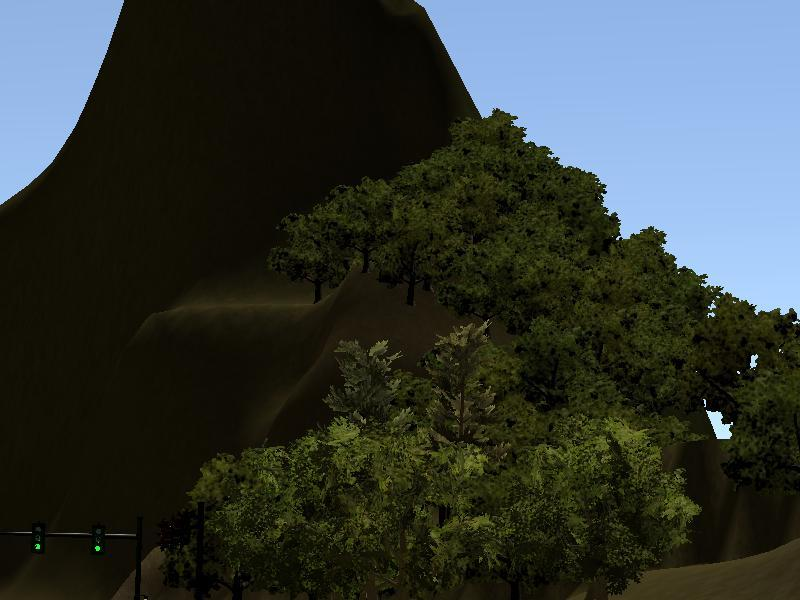Green: (31, 521, 45, 553), (91, 524, 103, 554)
